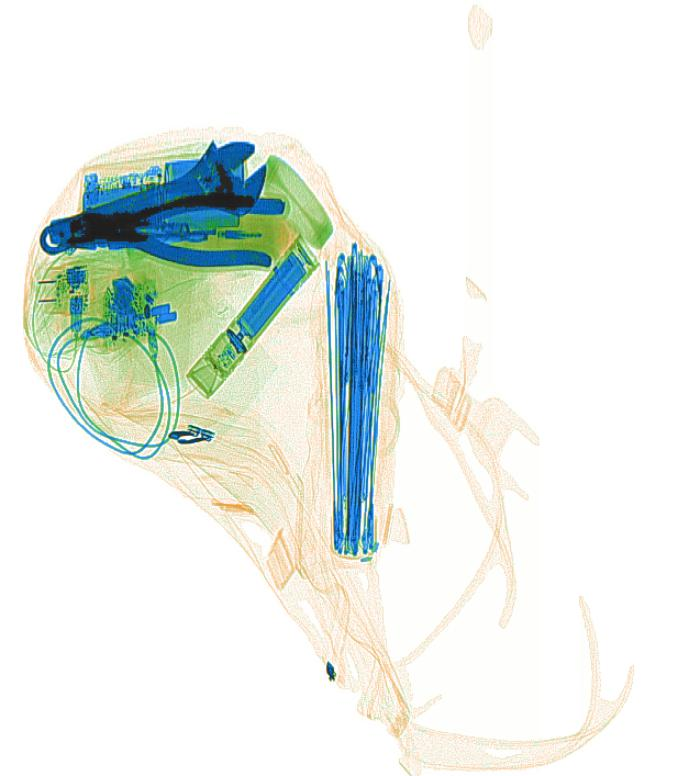battery: (75, 146, 247, 237), (233, 249, 311, 340)
